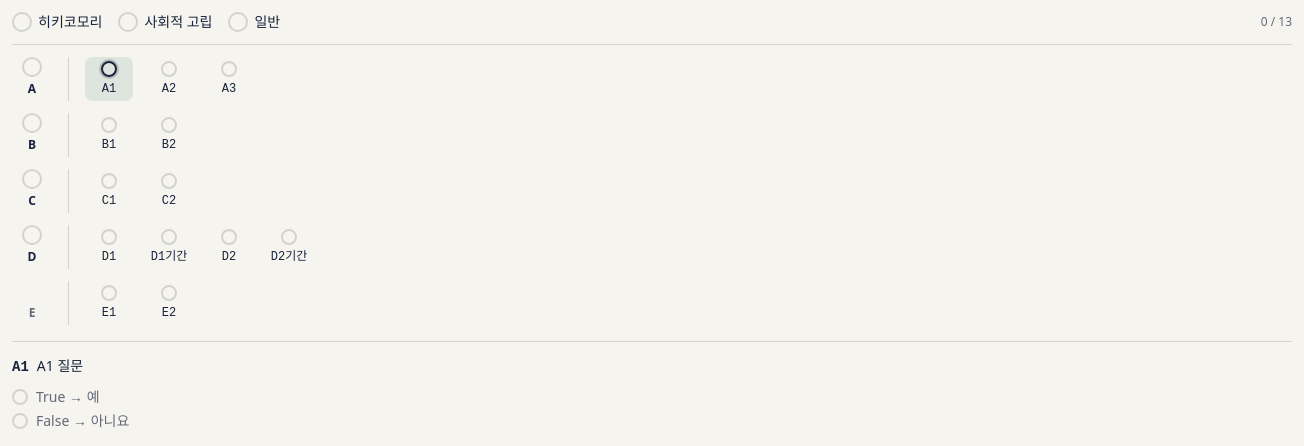
Scenario: JudgmentFlow detail › says a free response is recorded as spoken instead of inventing True and False
Click the button named "E1 아직" at (109, 303), box top-left (85, 281), bottom-right (133, 325)
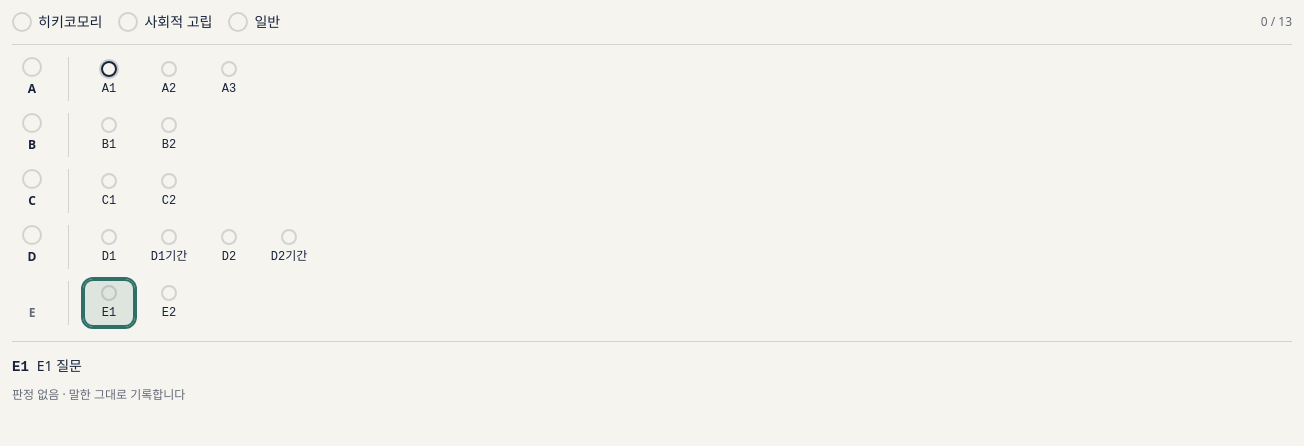
expect the element with test id "lamp-detail" shows "판정 없음": met, box top-left (12, 386), bottom-right (185, 403)
expect the element with test id "when-true" is gone: met
